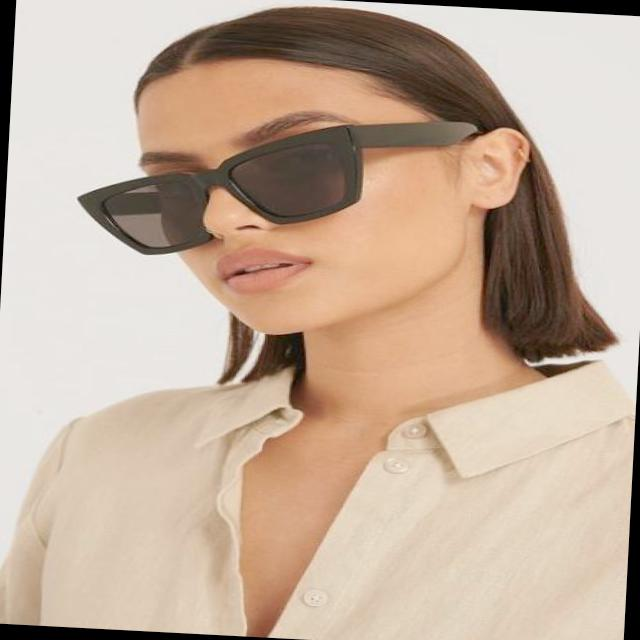glasses: (76, 103, 482, 272)
